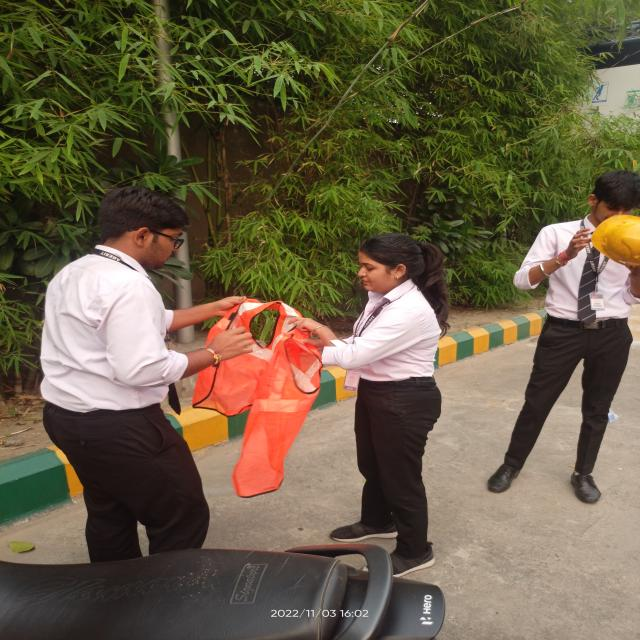unsafe: (35, 177, 221, 554), (482, 168, 640, 504), (314, 238, 436, 576)
